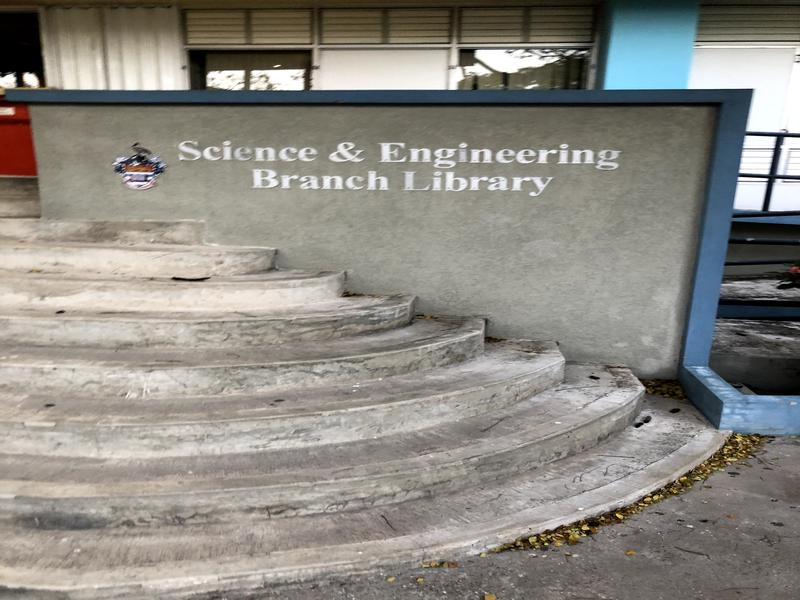18.0053644_-76.7493880_librarysign: (175, 128, 634, 216)
